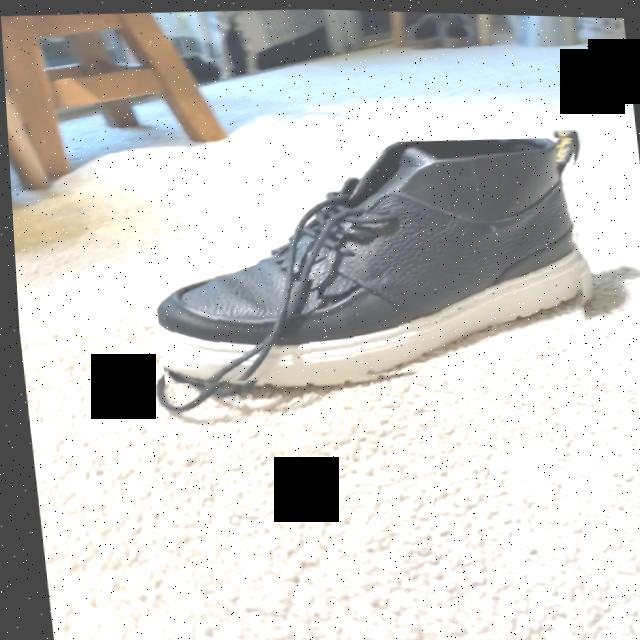shoe: (154, 135, 582, 378)
